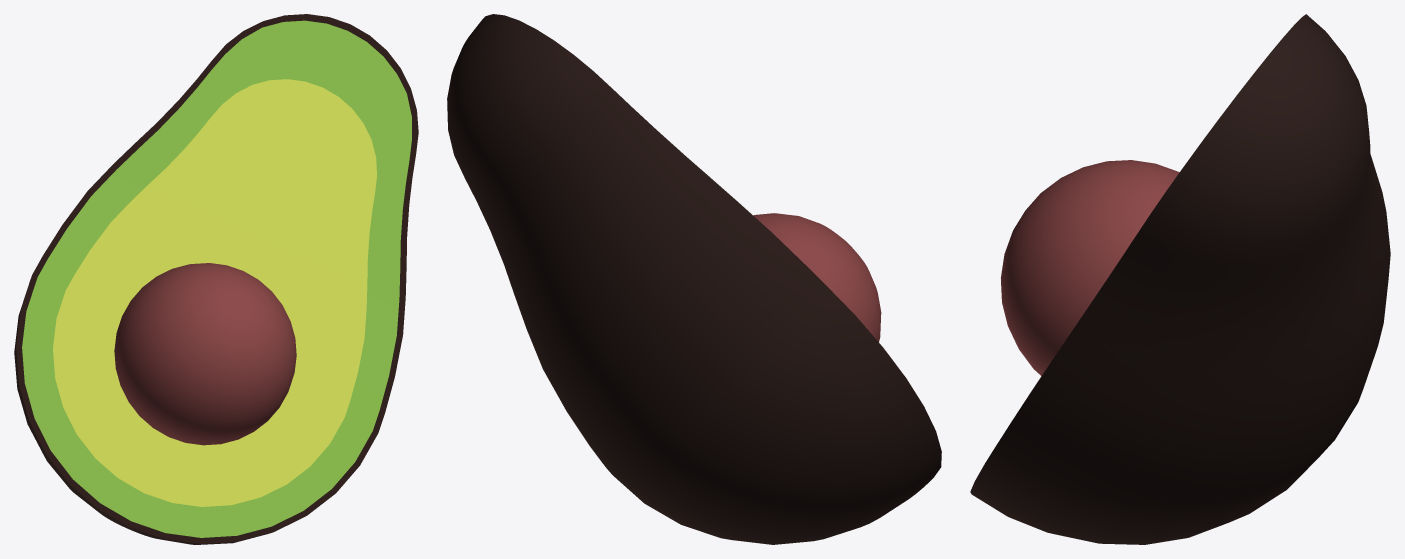
Rendered from avocado.gltf.
The picture shows the model from 3 angles, left to right: view 1: azimuth 30°, elevation 25°; view 2: azimuth 150°, elevation 25°; view 3: azimuth 270°, elevation 25°; orthographic projection. The views are drawn at different scales.
Parts seen in each view (by area): view 1: Sphere.482; view 2: Sphere.482; view 3: Sphere.482.
Boxes of the visible parts, x1=… form: Sphere.482: x1=14, y1=14, x2=418, y2=544; Sphere.482: x1=447, y1=14, x2=941, y2=544; Sphere.482: x1=970, y1=14, x2=1390, y2=544.
Bounding box in the file's own units: 2.26 × 2.4 × 1.55.
Materials: 1 (1 with a texture image).
